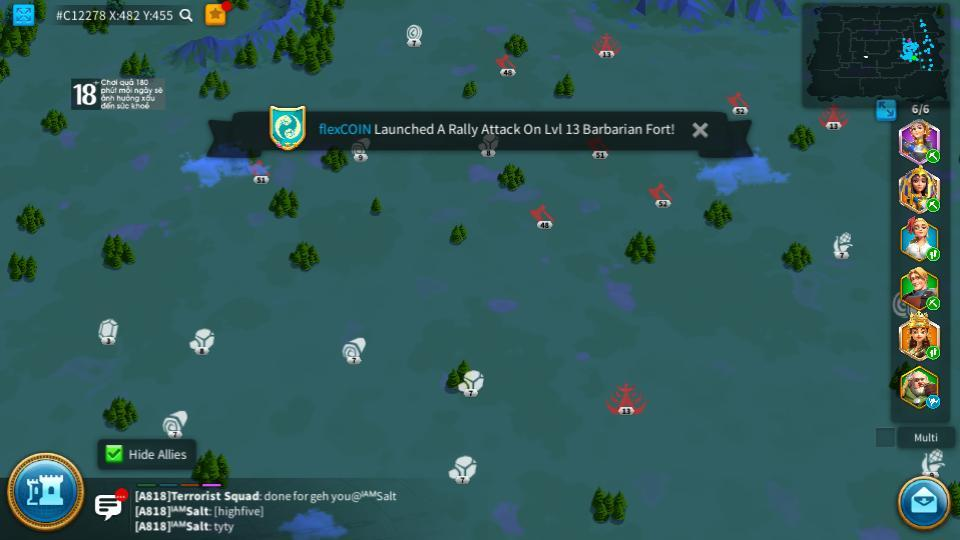gem-z-out: (97, 318, 119, 344), (405, 24, 423, 45)
march_idle: (925, 396, 942, 408)
march_marching: (925, 197, 941, 212), (925, 297, 942, 310), (925, 150, 942, 162), (925, 347, 941, 359), (925, 248, 941, 260)
